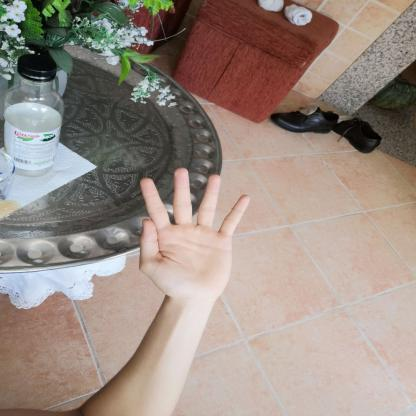SHEEN: (129, 160, 261, 310)
